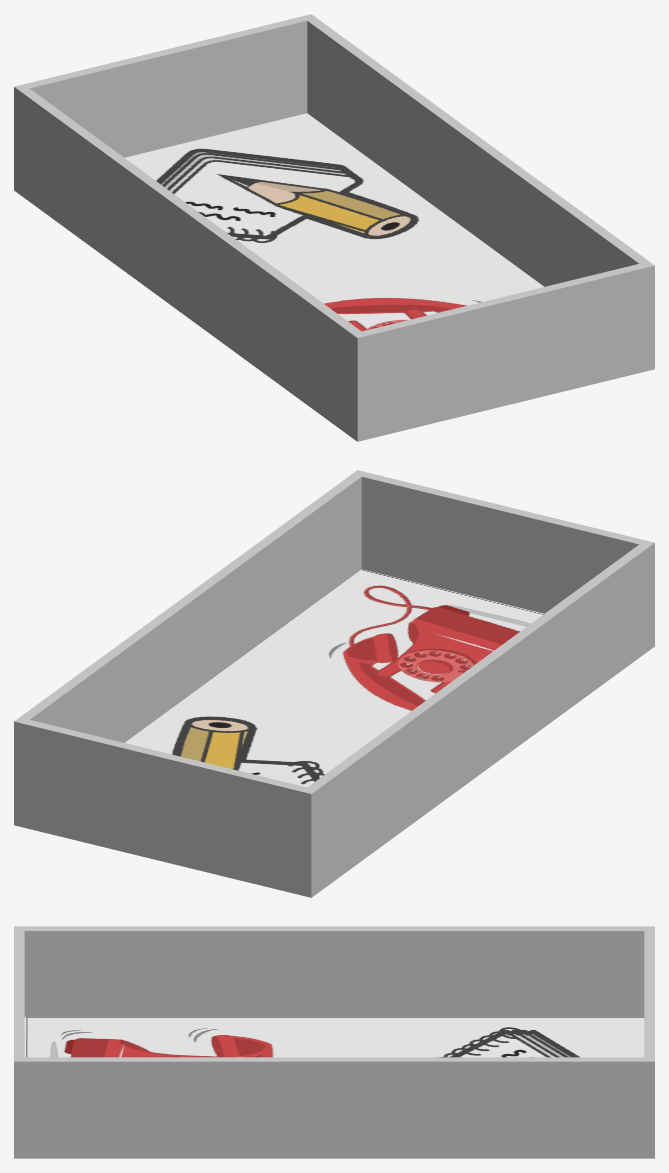
File: bin_gman_no_lid.dae
3 renders of one model, top to bottom at view 1: azimuth 30°, elevation 25°; view 2: azimuth 150°, elevation 25°; view 3: azimuth 270°, elevation 25°, orthographic. The views are drawn at different scales.
Visible parts, largest first — view 1: Cube; view 2: Cube; view 3: Cube.
Boxes of the visible parts, x1,y1,x2,y2 form: Cube: [14, 14, 654, 441]; Cube: [14, 470, 654, 897]; Cube: [14, 926, 654, 1158].
Size of the model in its own units: 0.3 by 0.6 by 0.1.
Materials: 2 (1 with a texture image).
